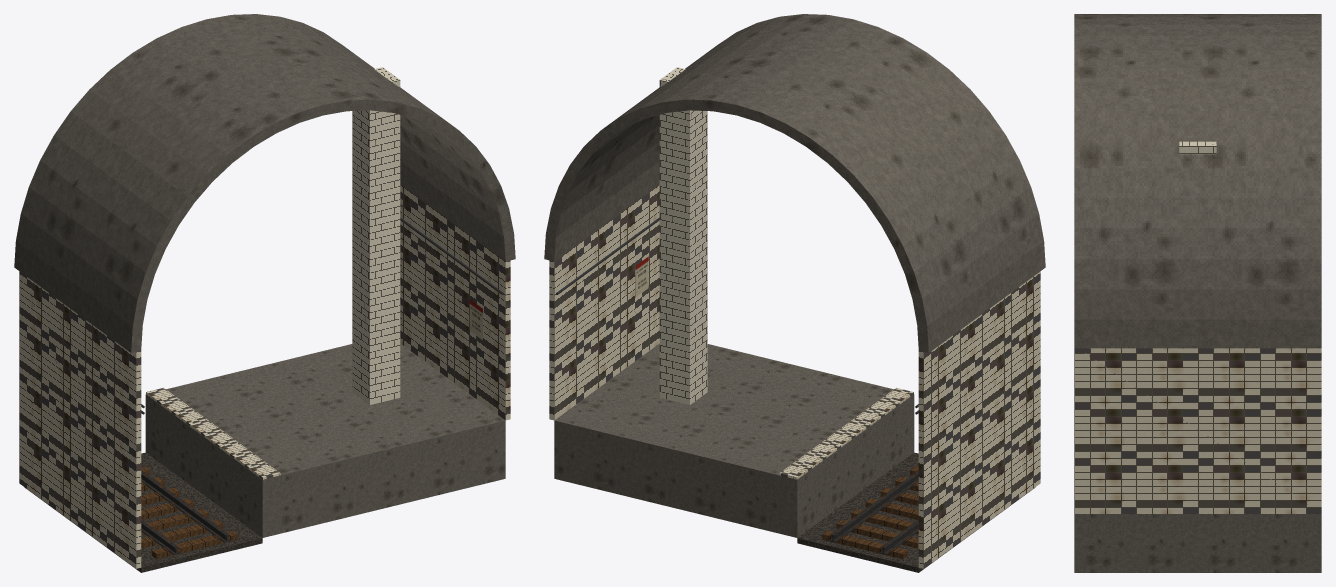
File: platform_section_4m_column.glb
The picture shows the model from 3 angles, left to right: view 1: azimuth 30°, elevation 25°; view 2: azimuth 150°, elevation 25°; view 3: azimuth 270°, elevation 25°; orthographic projection. The views are drawn at different scales.
Visible parts, largest first — view 1: Vault, PlatformSlab, WallTileL, WallTileR, Column, TrackFloor, Sleepers, EdgeCoping, Rails; view 2: Vault, PlatformSlab, WallTileL, WallTileR, Column, TrackFloor, Sleepers, EdgeCoping, Rails; view 3: Vault, WallTileR, PlatformSlab, Column.
Part boxes in pixels (bbox=[...]): Vault: bbox=[14, 14, 515, 352]; PlatformSlab: bbox=[145, 343, 505, 537]; WallTileL: bbox=[19, 271, 141, 568]; WallTileR: bbox=[400, 185, 510, 420]; Column: bbox=[352, 67, 400, 404]; TrackFloor: bbox=[24, 452, 262, 572]; Sleepers: bbox=[141, 466, 237, 559]; EdgeCoping: bbox=[146, 387, 280, 479]; Rails: bbox=[141, 470, 230, 554]; Vault: bbox=[544, 14, 1045, 352]; PlatformSlab: bbox=[554, 343, 914, 537]; WallTileL: bbox=[918, 271, 1040, 568]; WallTileR: bbox=[549, 185, 659, 420]; Column: bbox=[659, 67, 707, 404]; TrackFloor: bbox=[797, 452, 1035, 572]; Sleepers: bbox=[822, 466, 918, 559]; EdgeCoping: bbox=[779, 387, 913, 479]; Rails: bbox=[829, 470, 918, 554]; Vault: bbox=[1074, 14, 1321, 348]; WallTileR: bbox=[1074, 348, 1321, 513]; PlatformSlab: bbox=[1074, 514, 1321, 572]; Column: bbox=[1179, 141, 1216, 154].
Size of what is drawn, in the model's own units: 7.6 by 8 by 4.
Materials: 8 (7 with a texture image).
